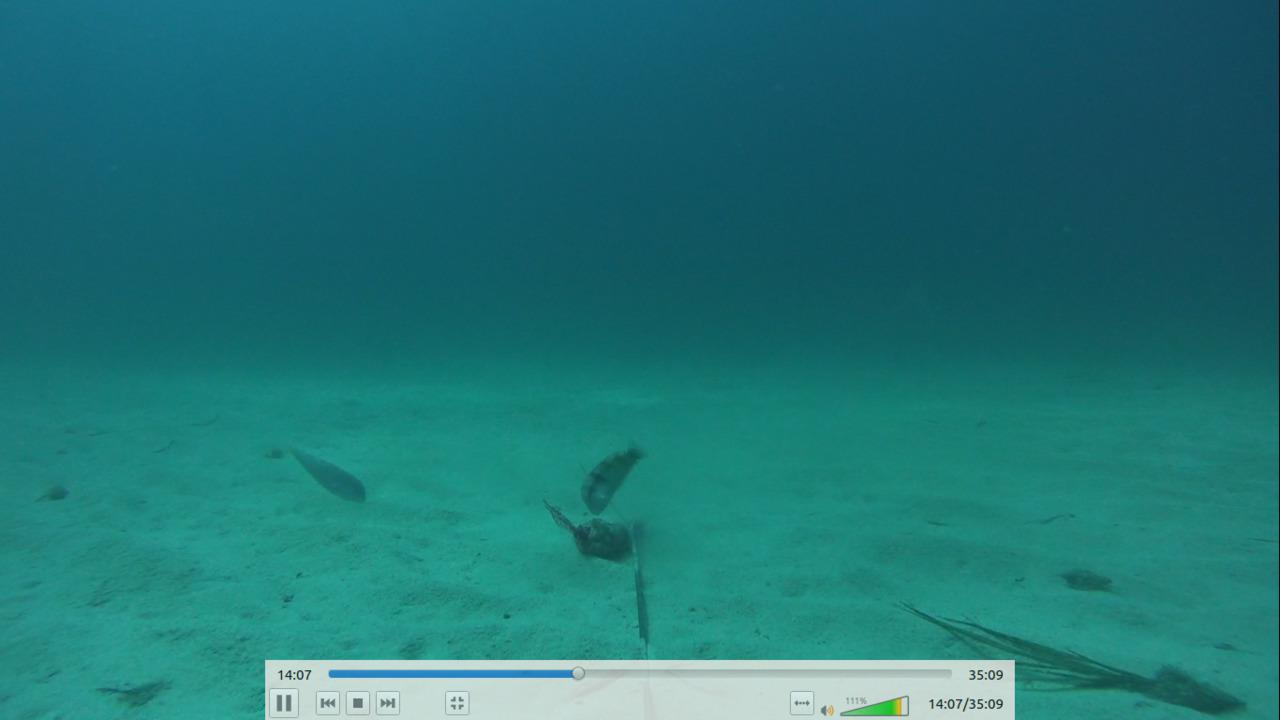raor: (271, 441, 372, 506), (577, 436, 647, 519)
